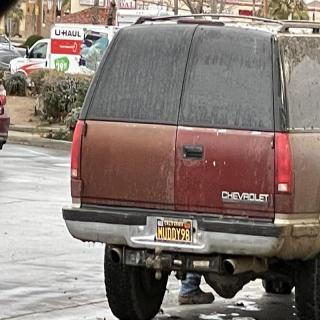license: (157, 218, 194, 245)
